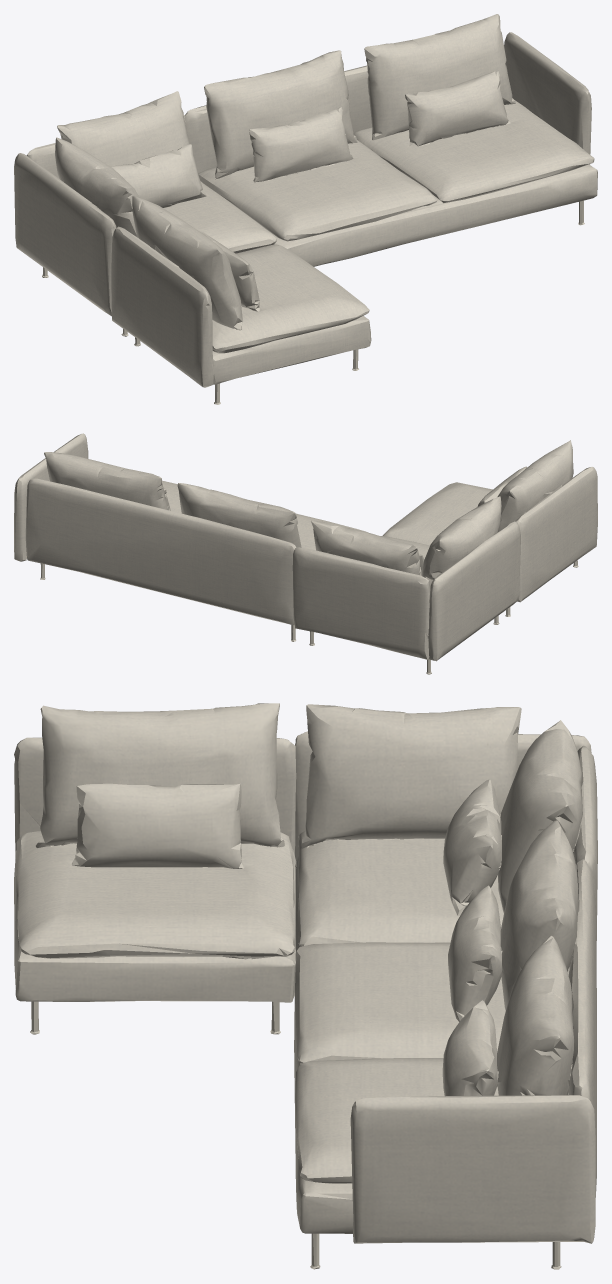
The model's file is soderhamn_sofa_narozna_4_osobowa_79305418.glb.
The picture shows the model from 3 angles, top to bottom: view 1: azimuth 30°, elevation 25°; view 2: azimuth 150°, elevation 25°; view 3: azimuth 270°, elevation 25°; orthographic projection. The views are drawn at different scales.
Parts seen in each view (by area): view 1: soderhamn_sofa_narozna_4_osobowa_79305418; view 2: soderhamn_sofa_narozna_4_osobowa_79305418; view 3: soderhamn_sofa_narozna_4_osobowa_79305418.
Part boxes in pixels (<box>): soderhamn_sofa_narozna_4_osobowa_79305418: <box>14,14,597,404</box>; soderhamn_sofa_narozna_4_osobowa_79305418: <box>14,433,597,674</box>; soderhamn_sofa_narozna_4_osobowa_79305418: <box>14,703,597,1269</box>.
Bounding box in the file's own units: 2.97 × 0.8651 × 1.96.
Materials: 2 (2 with a texture image).
